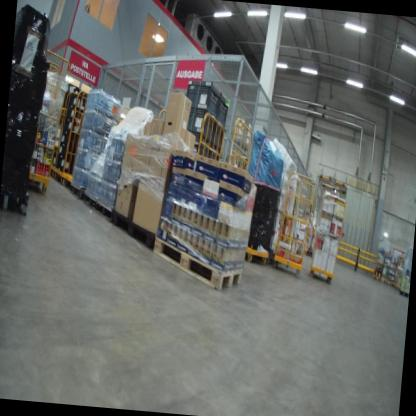pallet: (148, 229, 248, 294), (106, 206, 161, 250), (0, 181, 31, 218), (81, 190, 113, 221), (68, 184, 87, 202)
